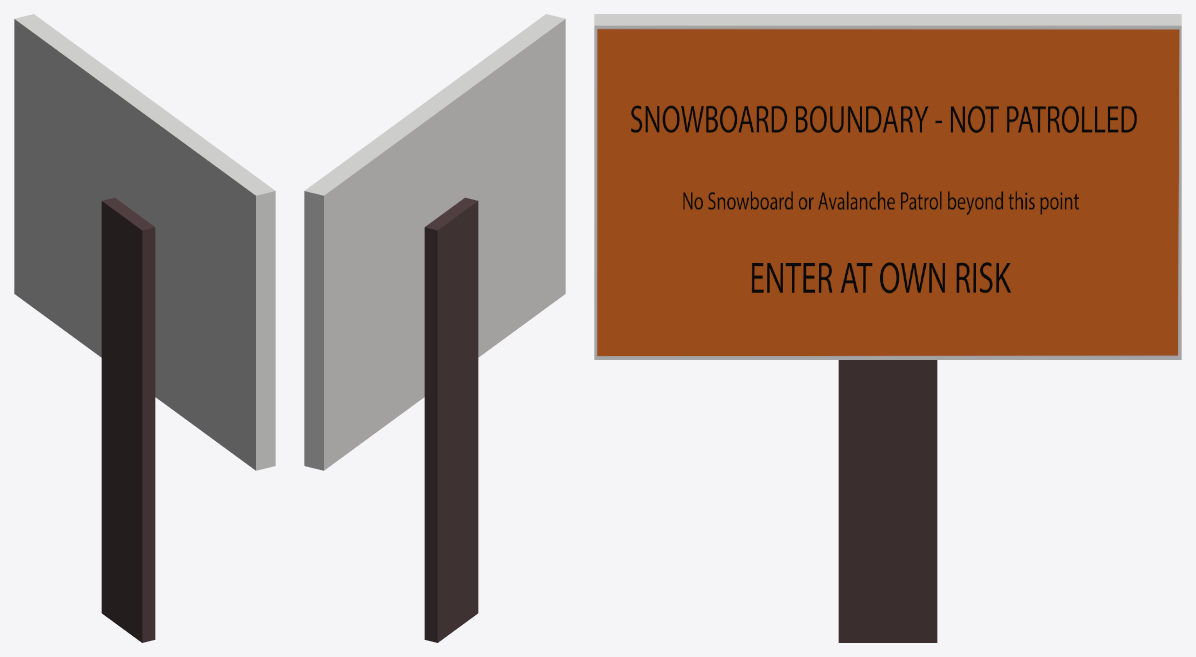
The model's file is Sign Boundary.fbx.
The picture shows the model from 3 angles, left to right: view 1: azimuth 30°, elevation 25°; view 2: azimuth 150°, elevation 25°; view 3: azimuth 270°, elevation 25°; orthographic projection. The views are drawn at different scales.
Visible parts, largest first — view 1: Warning Sign, Post; view 2: Warning Sign, Post; view 3: Warning Sign, Post.
Part boxes in pixels (x1,y1,x2,y2): Warning Sign: (14,14,275,470); Post: (101,197,155,642); Warning Sign: (304,14,565,470); Post: (424,197,478,642); Warning Sign: (594,14,1181,359); Post: (838,360,937,642).
Size of the model in its own units: 25 by 376 by 319.
Materials: 3 (1 with a texture image).
